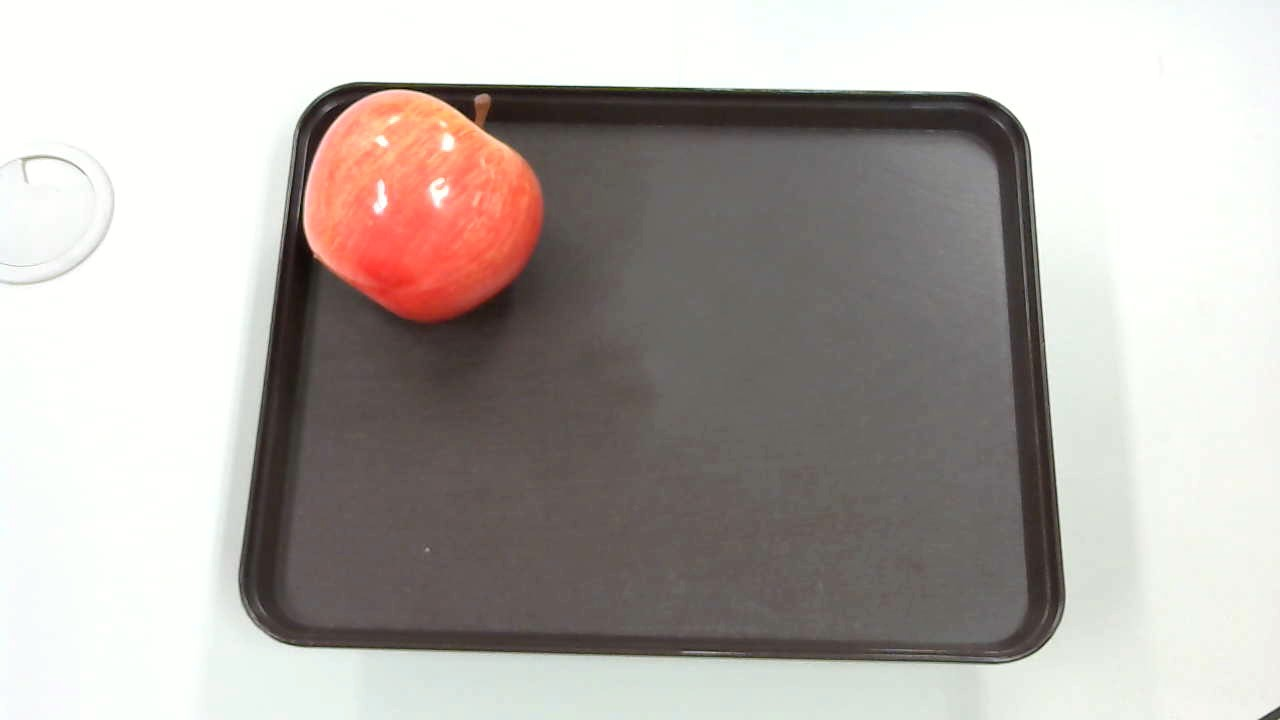red apple: (288, 83, 551, 332)
